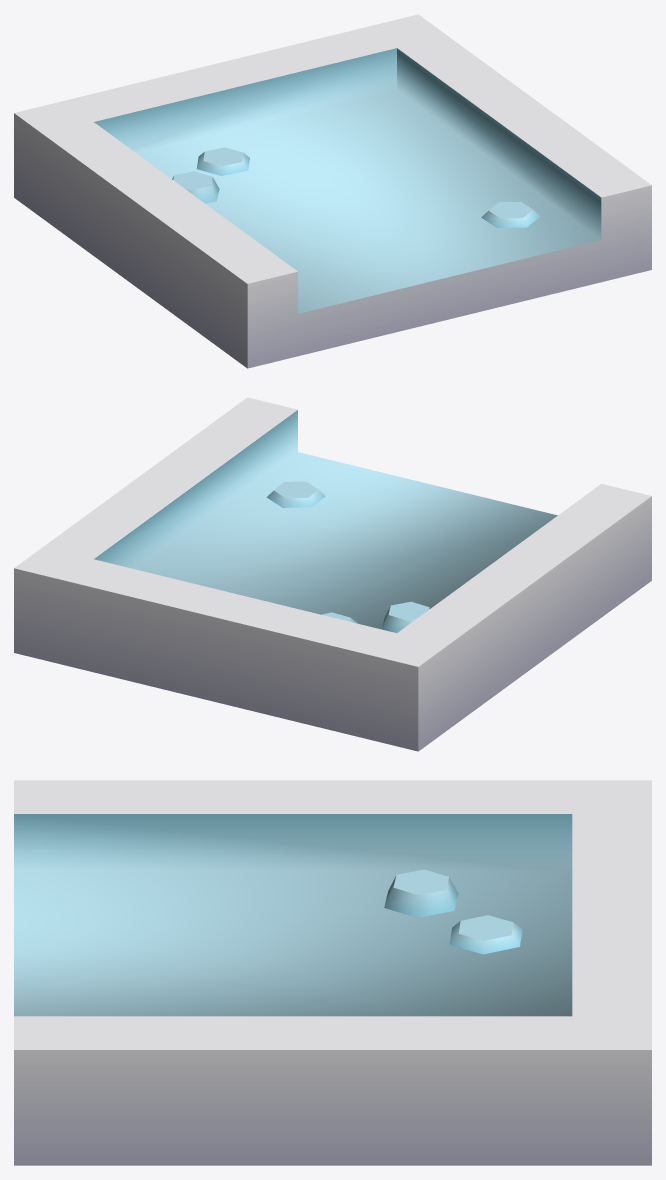
The model's file is snow-tile-end.gltf.
3 views of the same model, one above another, from view 1: azimuth 30°, elevation 25°; view 2: azimuth 150°, elevation 25°; view 3: azimuth 270°, elevation 25° (orthographic). The views are drawn at different scales.
Parts seen in each view (by area): view 1: snow-tile-end; view 2: snow-tile-end; view 3: snow-tile-end.
Part boxes in pixels (<box>): snow-tile-end: <box>14,14,651,368</box>; snow-tile-end: <box>14,397,651,751</box>; snow-tile-end: <box>14,780,651,1165</box>.
Bounding box in the file's own units: 1 × 0.2 × 1.
1 material, 1 textured.
